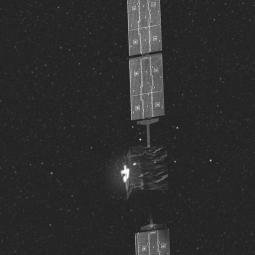smart_1: (110, 2, 186, 254)
